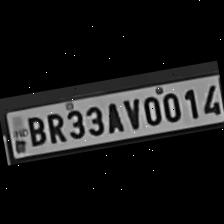0: (137, 90, 163, 126), (158, 86, 183, 122)
1: (177, 84, 200, 120)
3: (62, 105, 86, 141), (80, 100, 104, 136)
4: (195, 78, 223, 116)
A: (99, 96, 124, 134)
B: (20, 111, 46, 146)
R: (42, 108, 66, 144)
V: (118, 94, 142, 130)
